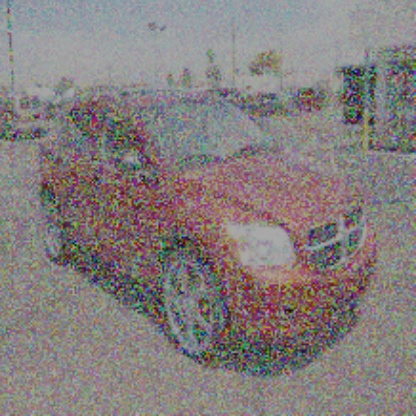Vehicle: (40, 86, 382, 369)
